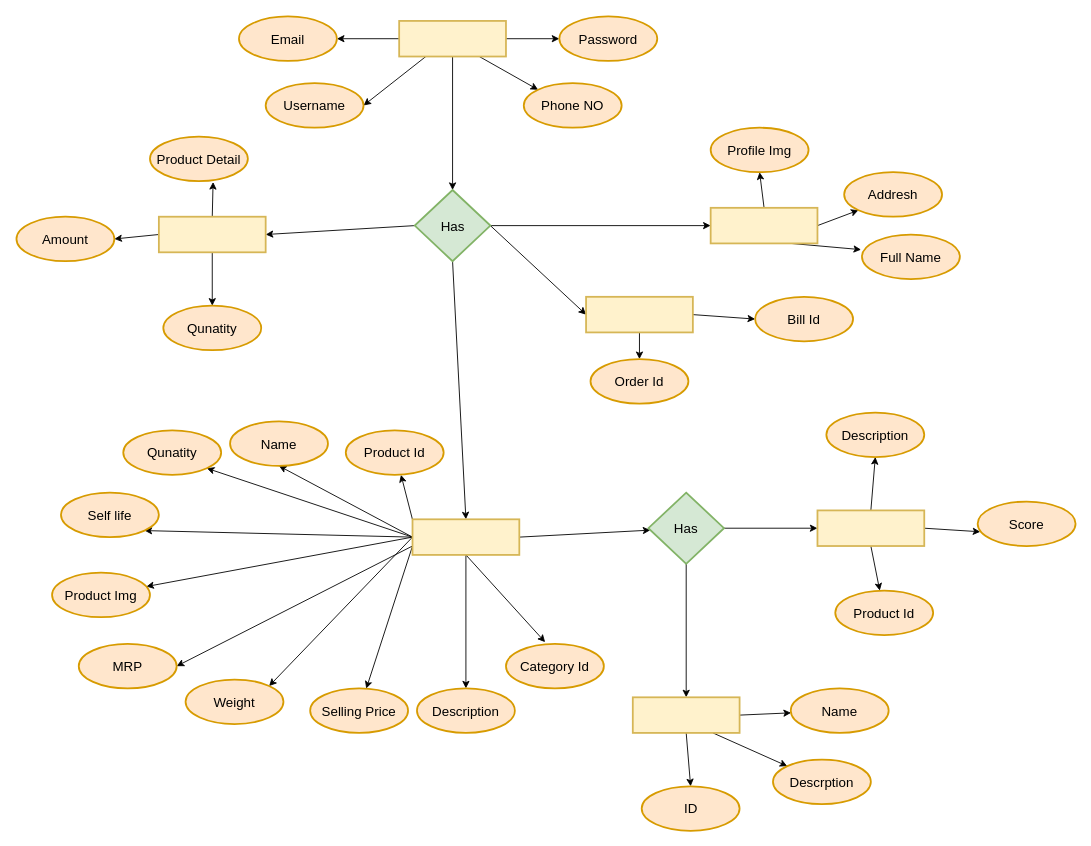
The diagram is 1091 pixels wide and 846 high, and some of its shapes have lost their labels. Each missing label, with the box of its shape:
Cart: (158, 215, 266, 253)
Category: (631, 696, 740, 733)
Order: (585, 295, 693, 333)
Product: (411, 518, 520, 555)
Profile: (709, 206, 818, 244)
Reviews: (816, 509, 925, 546)
User: (398, 20, 506, 57)
